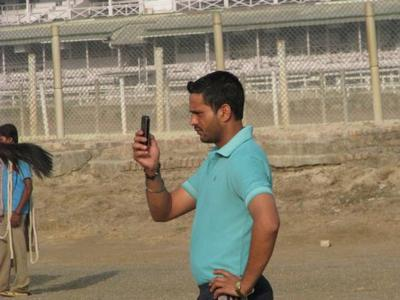person: (132, 71, 281, 300)
